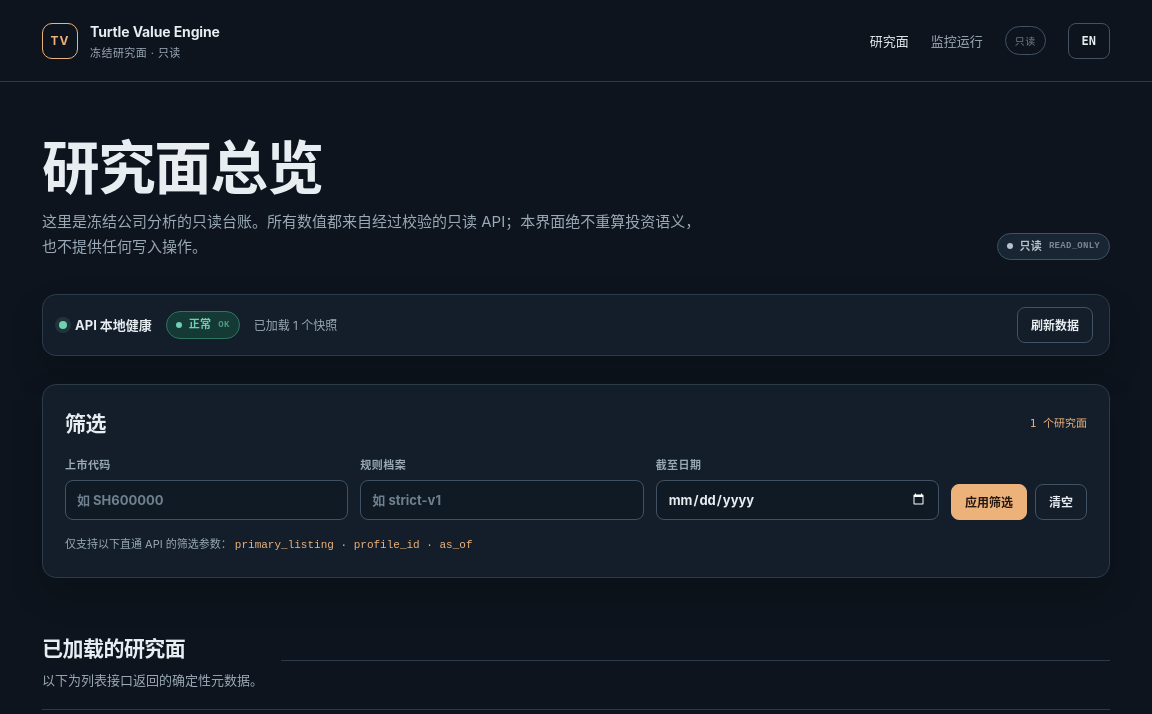
Scenario: surface overview › switches the interface language through a client-only toggle
Expected: the heading "研究面总览" is shown, [42, 133, 323, 203]
Click the button with aria-label "切换界面语言" at [1089, 40], box [1068, 22, 1110, 58]
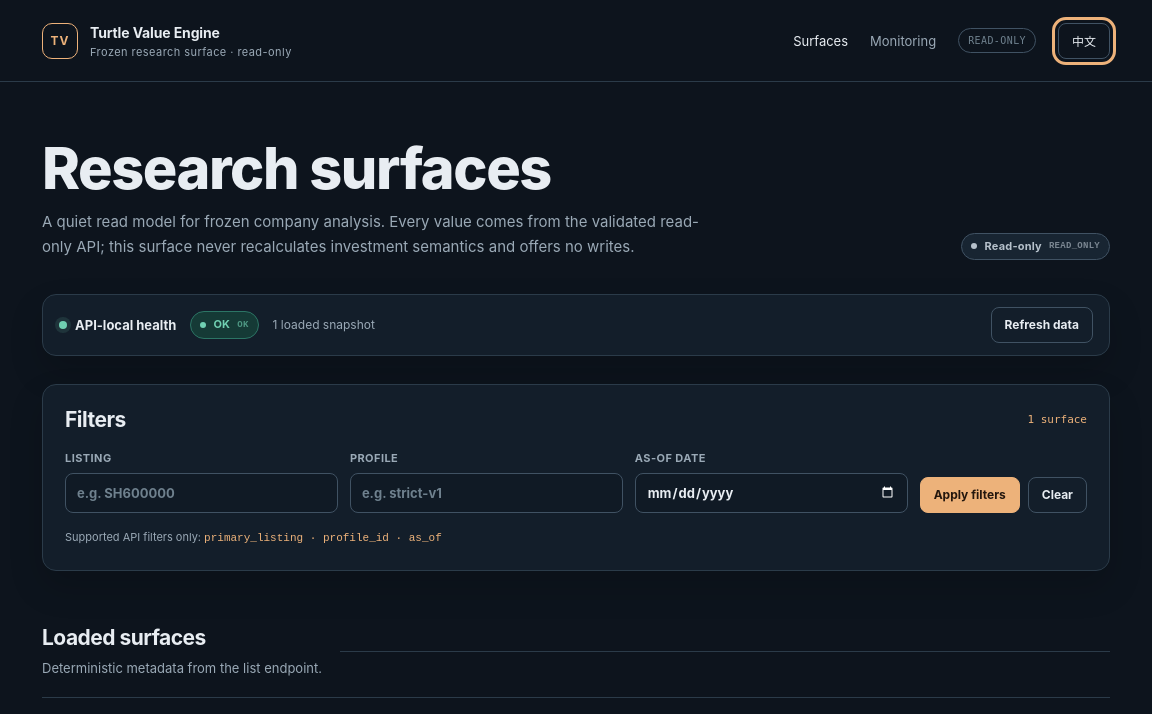
Expected: the heading "Research surfaces" is shown, [42, 133, 551, 203]
Expected: the button "Apply filters" is shown, [920, 477, 1020, 513]
